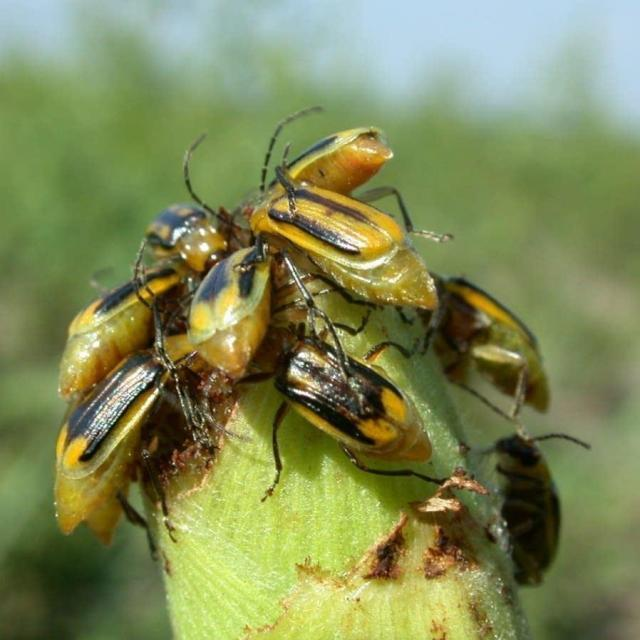trips: (182, 102, 437, 308), (236, 296, 449, 500), (464, 370, 588, 585), (57, 348, 174, 544), (422, 262, 548, 420), (58, 267, 188, 388), (190, 246, 278, 384), (132, 201, 232, 311)
